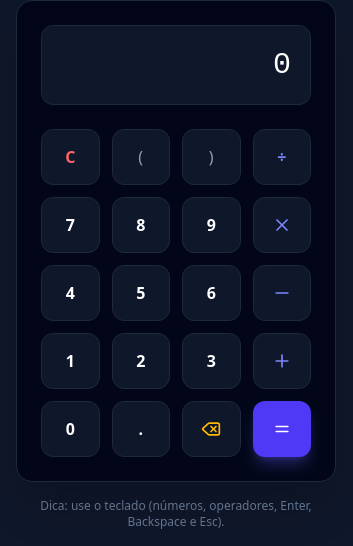
Test: CalculatorTool › has a backspace button
Click the button "8".
click(141, 225)  # box x1=112 y1=197 x2=170 y2=253
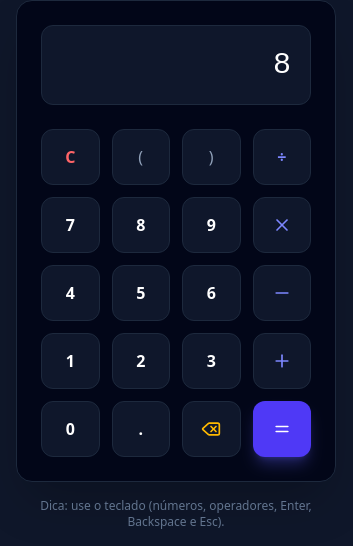
Click the button "9".
click(211, 225)  # box x1=182 y1=197 x2=240 y2=253
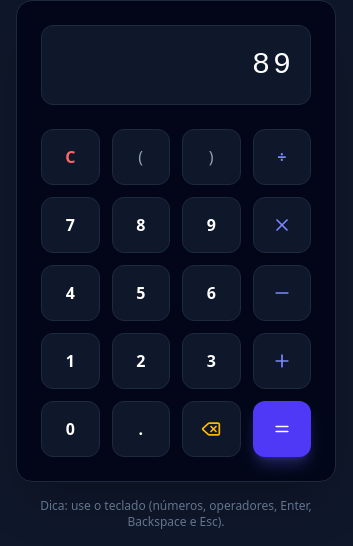
Click the button named "Apagar".
click(211, 429)  # box x1=182 y1=401 x2=240 y2=457
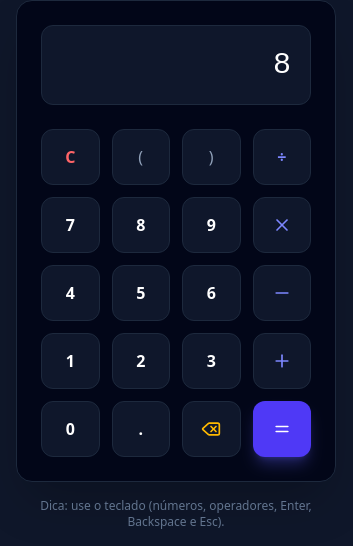
Now the text with test id "calculator-display" reads "8", box x1=273 y1=48 x2=294 y2=82
